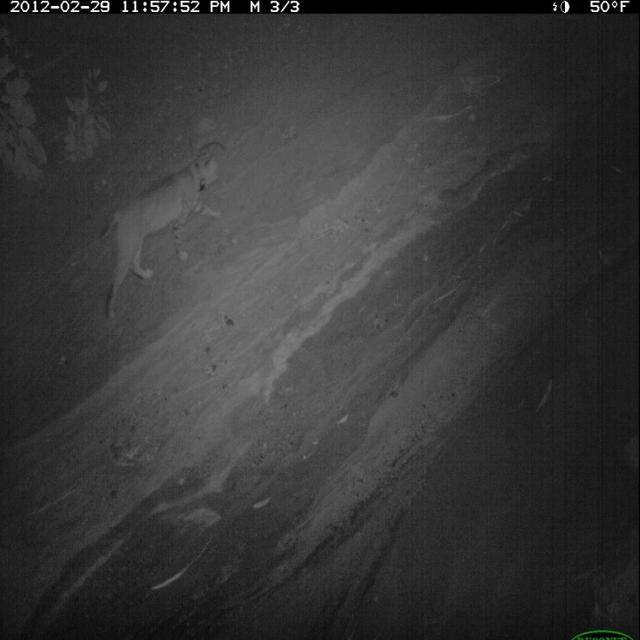bobcat: (94, 141, 226, 329)
